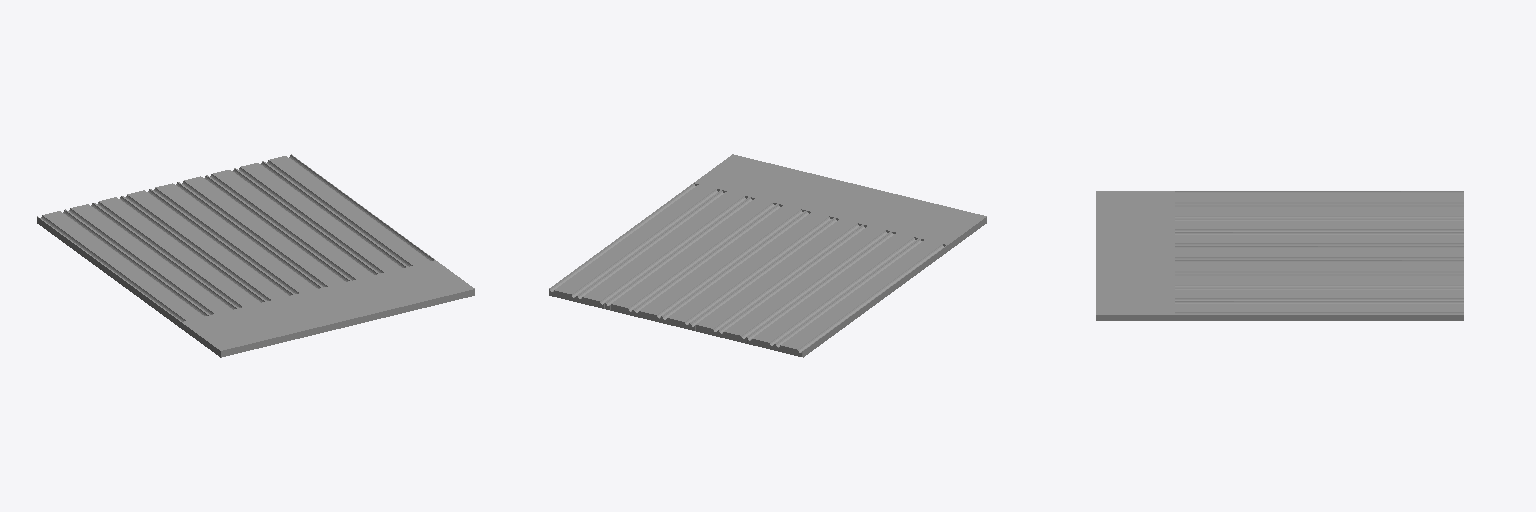
Rendered from lane.obj.
The picture shows the model from 3 angles: view 1: azimuth 30°, elevation 25°; view 2: azimuth 150°, elevation 25°; view 3: azimuth 270°, elevation 25°; orthographic projection.
Visible parts, largest first — view 1: big_bowling_lane_Plane.004; view 2: big_bowling_lane_Plane.004; view 3: big_bowling_lane_Plane.004.
Boxes of the visible parts, x1=… form: big_bowling_lane_Plane.004: x1=37, y1=154, x2=474, y2=357; big_bowling_lane_Plane.004: x1=549, y1=154, x2=986, y2=357; big_bowling_lane_Plane.004: x1=1096, y1=191, x2=1463, y2=320.
Size of the model in its own units: 34.42 by 0.8567 by 43.11.